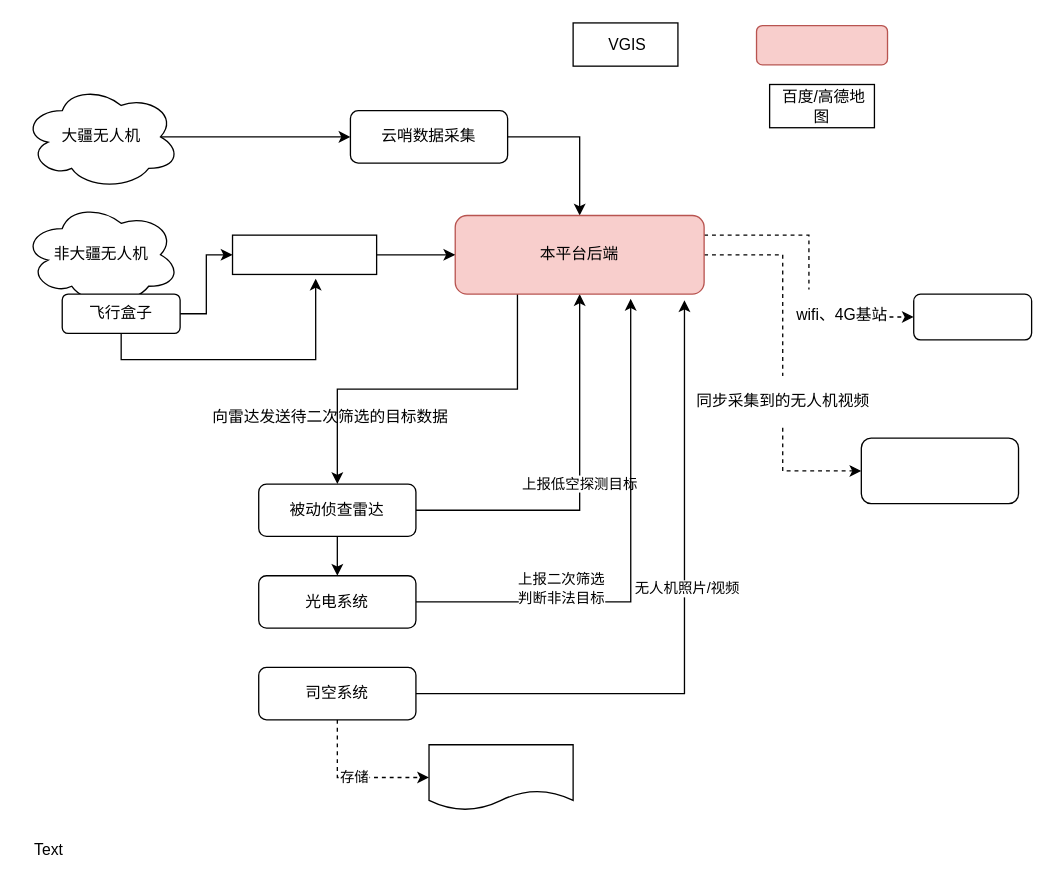
This 1055x887 diagram has some shape labels left out. Here are the shapes that lost their labels. From the top down, the centre of each, then its label:
(821,44): 本平台APP
(304,254): 第三方厂商平台
(972,316): 多维感知平台
(939,470): 城市视频监控平台 V 5
(500,776): 照片与视频存储
